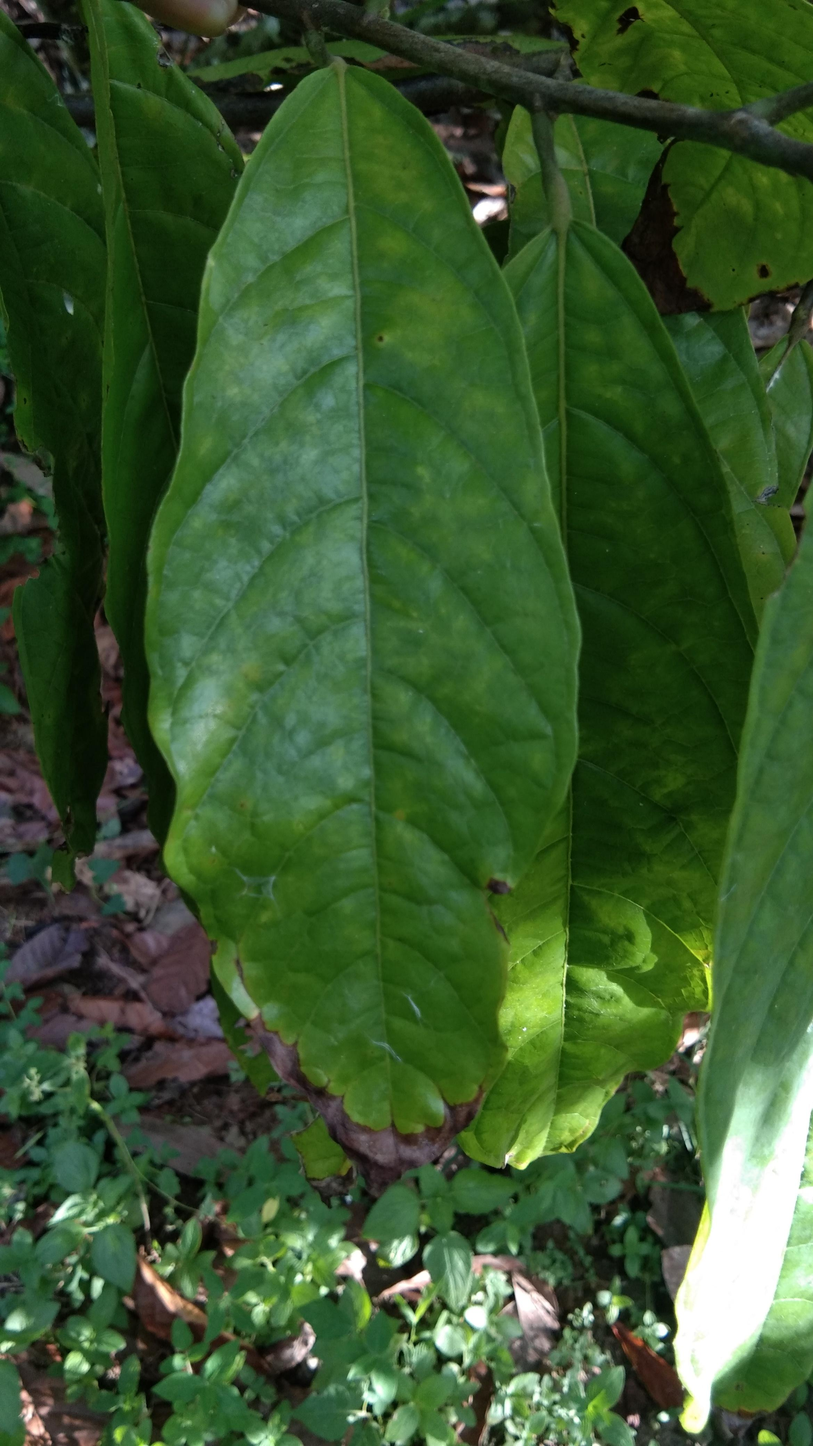deficiencia_potasio: (144, 56, 581, 1136)
